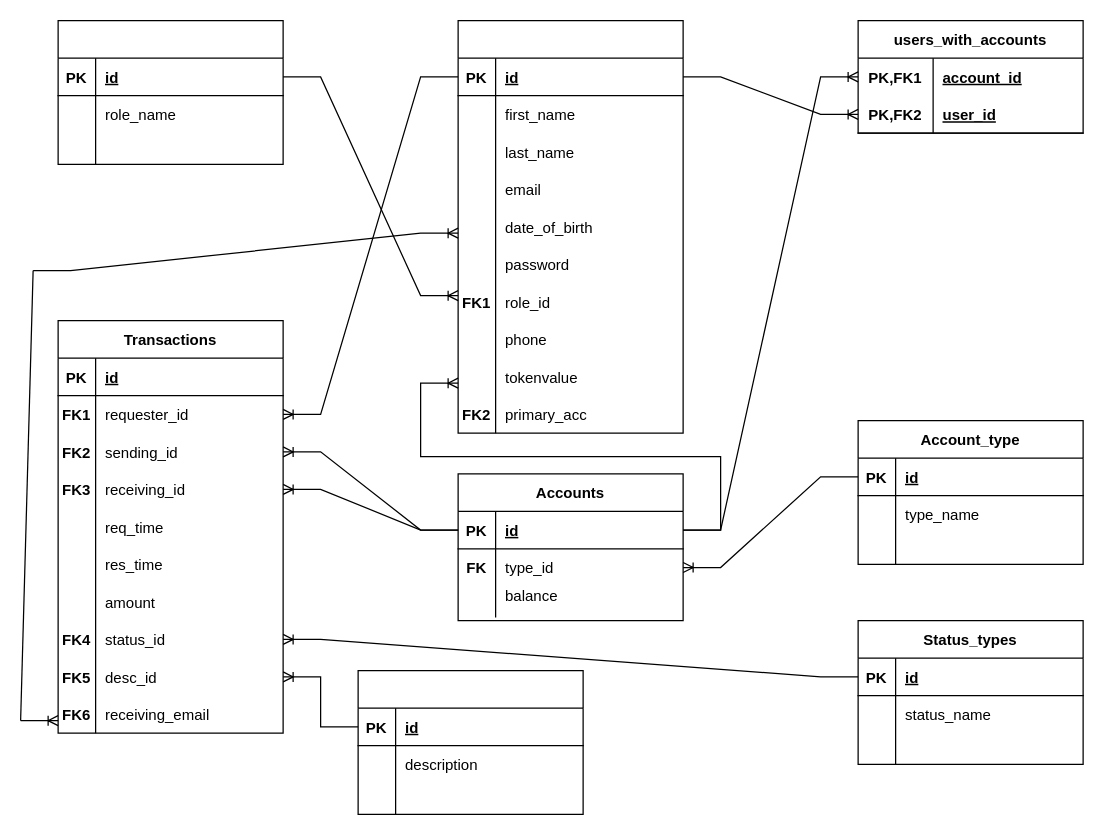
Some shapes in this 1104 by 835 pixel diagram are drawn without their labels. Each missing label, with the box of its shape:
Roles: (57, 19, 283, 164)
Transaction_descriptions: (357, 669, 583, 814)
Users: (457, 19, 683, 433)
